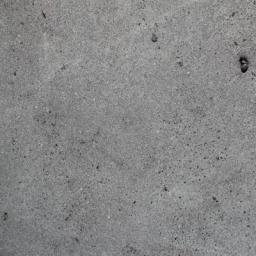FOD: (239, 55, 252, 75)
